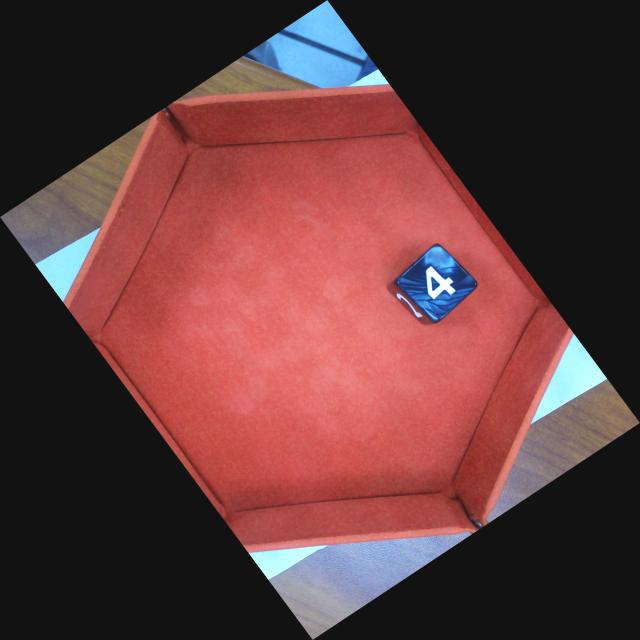dice: (395, 243, 480, 323)
